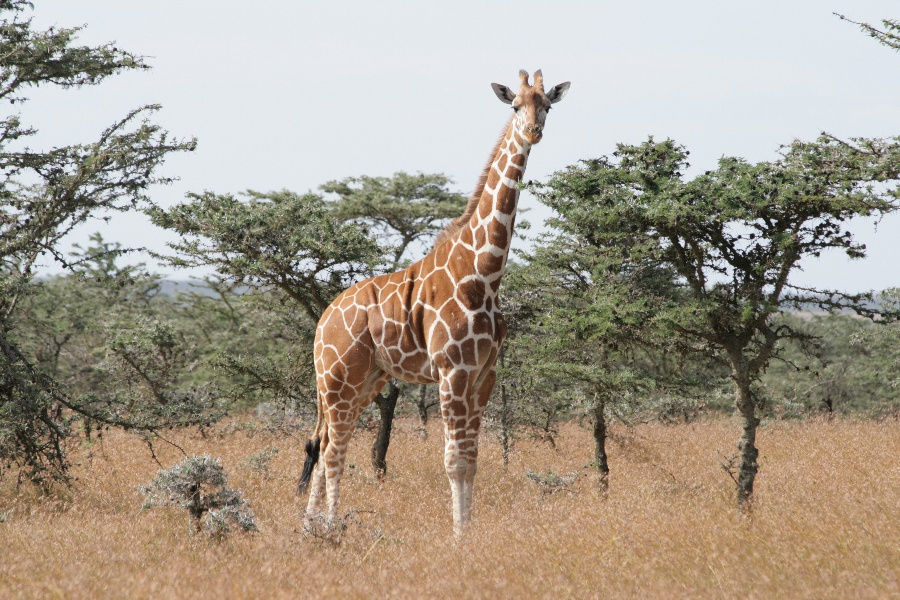giraffe: (295, 55, 576, 533)
